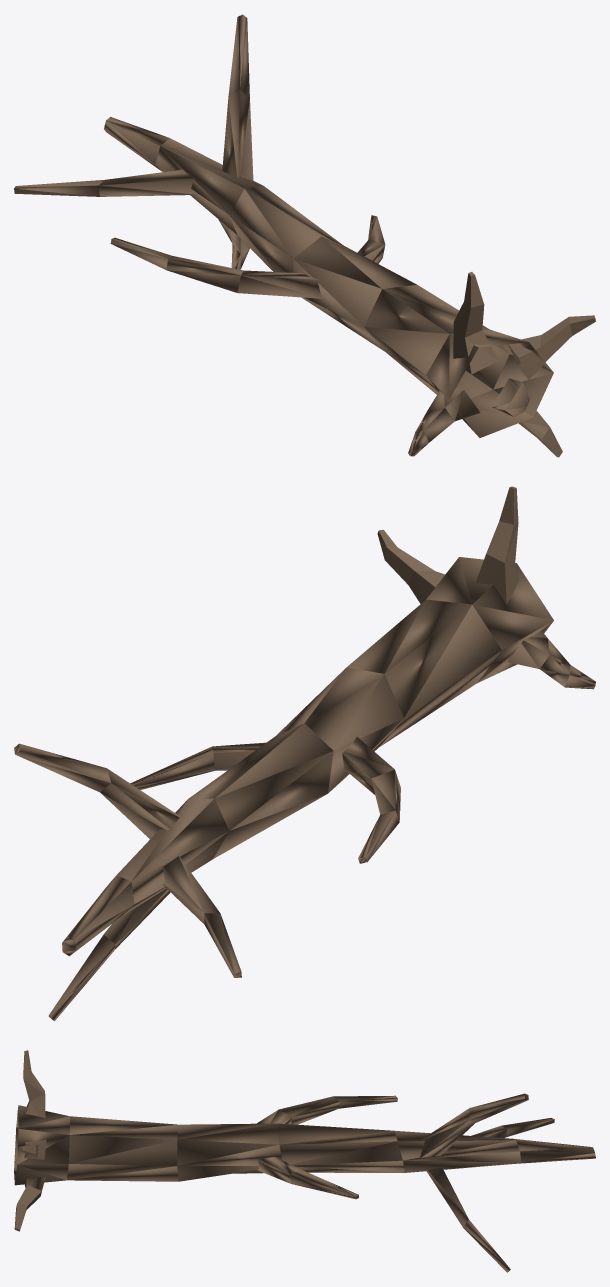
Rendered from Tree_type2.FBX.
3 views of the same model, one above another, from view 1: azimuth 30°, elevation 25°; view 2: azimuth 150°, elevation 25°; view 3: azimuth 270°, elevation 25° (orthographic). The views are drawn at different scales.
Visible parts, largest first — view 1: Derevo_type2_01; view 2: Derevo_type2_01; view 3: Derevo_type2_01.
Part boxes in pixels (box(x1,y1,x2,y2)): Derevo_type2_01: box(14, 14, 595, 457); Derevo_type2_01: box(14, 486, 595, 1021); Derevo_type2_01: box(14, 1050, 595, 1272).
Bounding box in the file's own units: 144 × 145 × 399.
